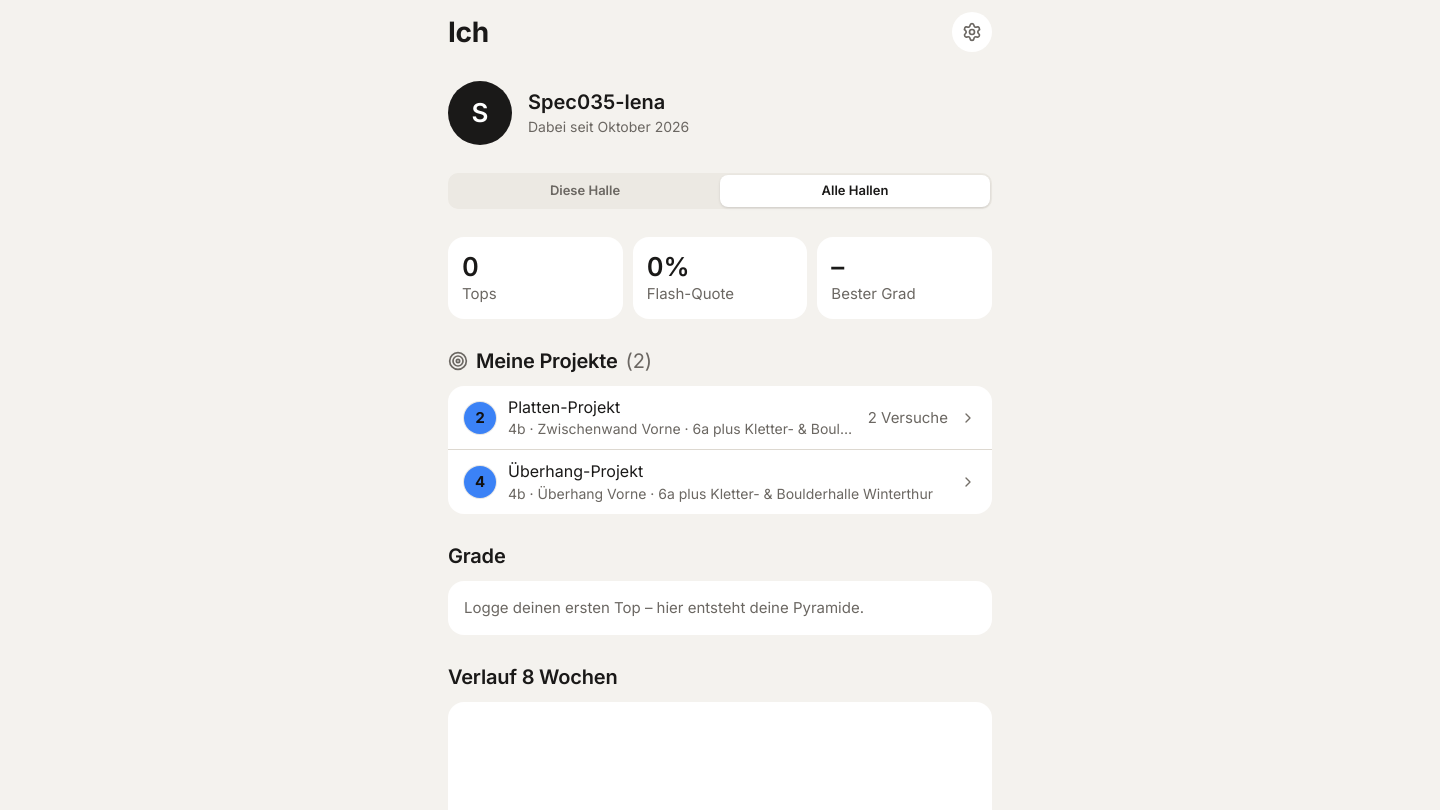
Test: SPEC-035: Meine Projekte und Versuche › «Ich» zeigt «Meine Projekte (n)» über Sektoren hinweg; Tippen öffnet das Sheet (AC-1/AC-2)
Expected: the element with test id "my-projects-section" shows "Meine Projekte", x1=476 y1=349 x2=618 y2=373
Expected: the element with test id "my-projects-section" shows "(2)", x1=448 y1=347 x2=992 y2=514
Click the button that starts with "Überhang-Projekt" at (720, 482), box x1=448 y1=450 x2=992 y2=514
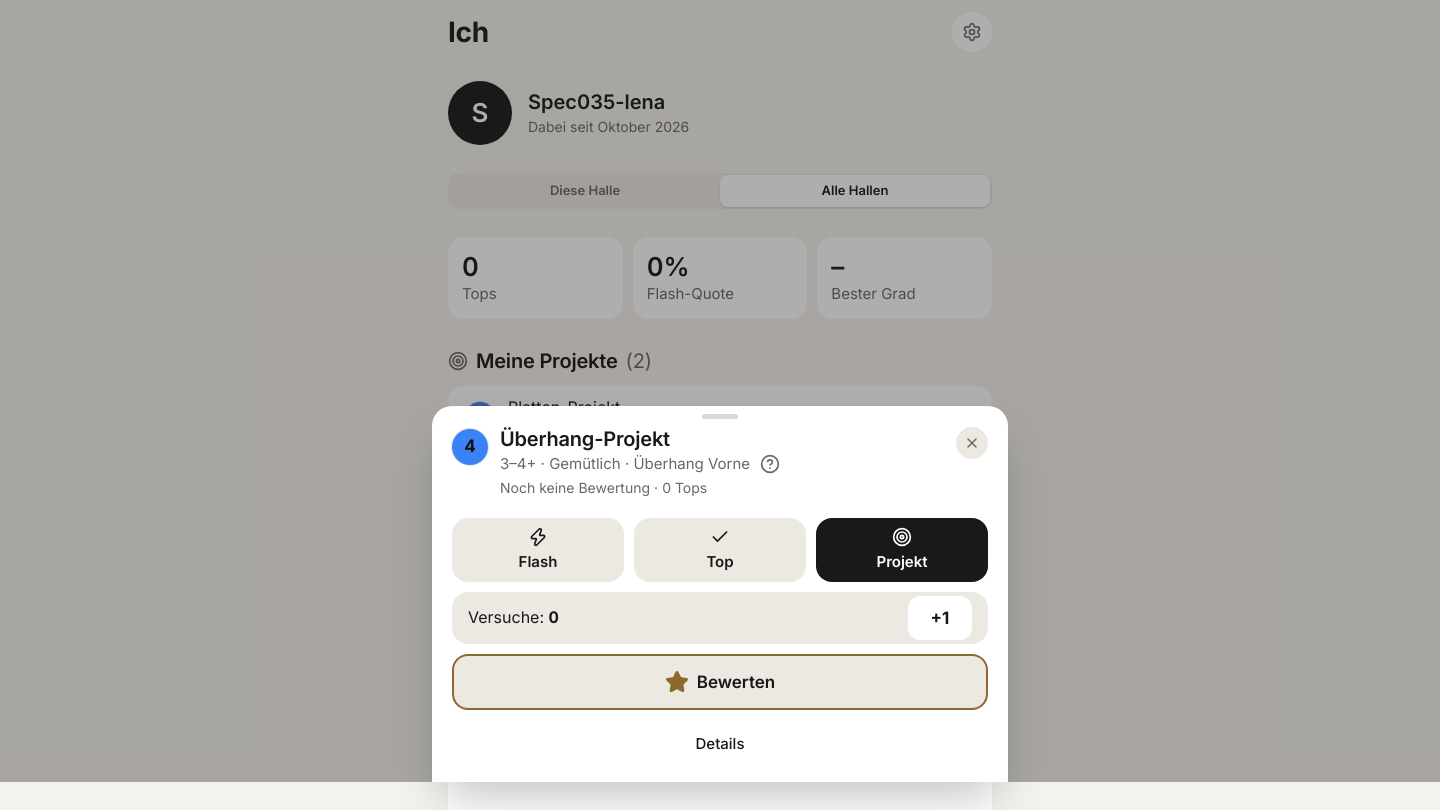
Now the heading with test id "boulder-sheet-title" reads "Überhang-Projekt", box x1=500 y1=427 x2=670 y2=451
